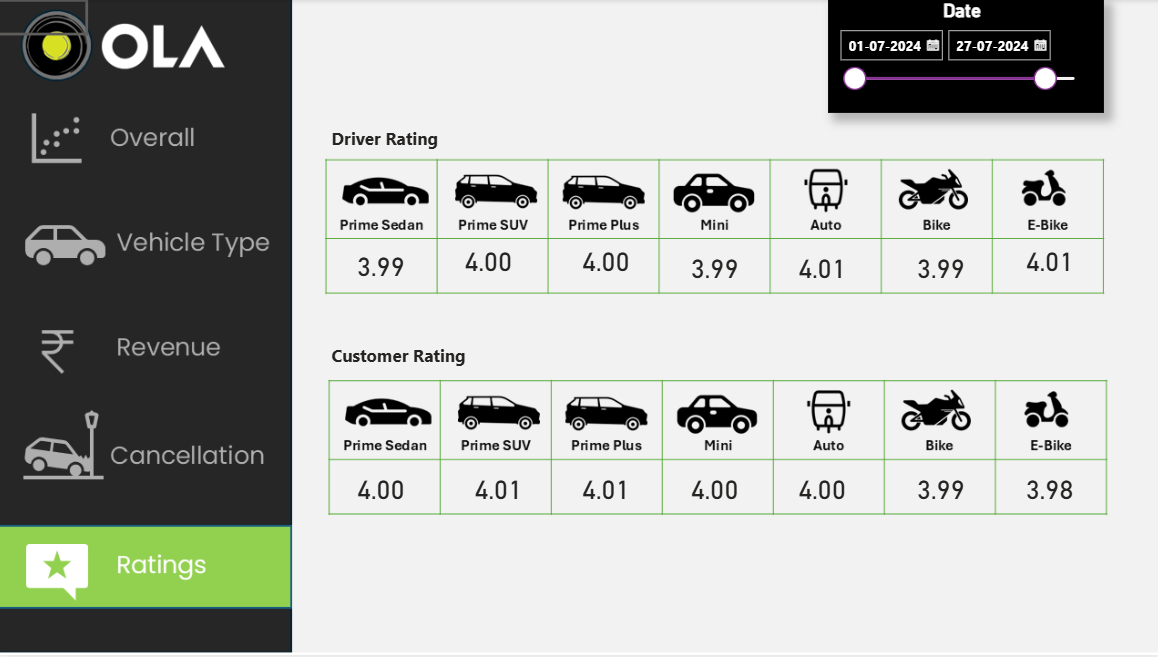

Layout of this report page (visuals, bound fields, positions):
{"tool":"powerbi","page":{"name":"Ratings","canvas":[1280,720],"ordinal":4},"visuals":[{"type":"actionButton","box":[0,0,100,40],"z":0},{"type":"actionButton","box":[0,208.6,323.5,100.8],"z":1000},{"type":"actionButton","box":[0,309.5,323.5,103.2],"z":2000},{"type":"actionButton","box":[0,573.6,323.8,102.9],"z":3000},{"type":"actionButton","box":[4.7,105.5,323.5,103.2],"z":4000},{"type":"actionButton","box":[0,94.7,323.8,104.3],"z":5000},{"type":"actionButton","box":[10,104.7,323.8,104.3],"z":6000},{"type":"actionButton","box":[0,206.3,323.5,103.2],"z":7000},{"type":"actionButton","box":[10,216.3,323.5,103.2],"z":8000},{"type":"actionButton","box":[0,220.9,323.8,91.9],"z":9000},{"type":"card","fields":{"Values":["Avg(Bookings.Driver_Ratings)"]},"box":[361.7,266.6,118.5,53],"z":9001},{"type":"card","fields":{"Values":["Avg(Bookings.Driver_Ratings)"]},"box":[480.2,260.4,118.5,53],"z":9002},{"type":"card","fields":{"Values":["Avg(Bookings.Driver_Ratings)"]},"box":[609.6,260.4,118.5,53],"z":9003},{"type":"card","fields":{"Values":["Avg(Bookings.Driver_Ratings)"]},"box":[728.1,268.2,118.5,53],"z":9004},{"type":"card","fields":{"Values":["Avg(Bookings.Driver_Ratings)"]},"box":[846.6,268.2,118.5,53],"z":9005},{"type":"card","fields":{"Values":["Avg(Bookings.Driver_Ratings)"]},"box":[977.5,268.2,118.5,53],"z":9006},{"type":"card","fields":{"Values":["Avg(Bookings.Driver_Ratings)"]},"box":[1096,260.4,118.5,53],"z":9007},{"type":"card","fields":{"Values":["Avg(Bookings.Customer_Rating)"]},"box":[361.7,509.8,118.5,53],"z":9008},{"type":"card","fields":{"Values":["Avg(Bookings.Customer_Rating)"]},"box":[491.1,509.8,118.5,53],"z":9009},{"type":"card","fields":{"Values":["Avg(Bookings.Customer_Rating)"]},"box":[609.6,509.8,118.5,53],"z":9010},{"type":"card","fields":{"Values":["Avg(Bookings.Customer_Rating)"]},"box":[728.1,509.8,118.5,53],"z":9011},{"type":"card","fields":{"Values":["Avg(Bookings.Customer_Rating)"]},"box":[846.6,509.8,118.5,53],"z":9012},{"type":"card","fields":{"Values":["Avg(Bookings.Customer_Rating)"]},"box":[977.5,509.8,118.5,53],"z":9013},{"type":"card","fields":{"Values":["Avg(Bookings.Customer_Rating)"]},"box":[1096,509.8,118.5,53],"z":9014},{"type":"textbox","box":[361.7,135.6,146.6,37.4],"z":9015},{"type":"textbox","box":[361.7,372.6,162.1,39],"z":9016},{"type":"slicer","title":"Date","fields":{"Values":["Bookings.Date"]},"box":[912.1,0,302.5,124.7],"z":9017}]}

Visuals, with their boxes on the page's 1280x720 design canvas (x1, y1, x2, y2). These are canvas units, not pixel positions in the 1158x657 screenshot, which may show the page scaled, cropped or inside an application window:
actionButton: bbox(0, 0, 100, 40)
actionButton: bbox(0, 209, 324, 309)
actionButton: bbox(0, 310, 324, 413)
actionButton: bbox(0, 574, 324, 676)
actionButton: bbox(5, 106, 328, 209)
actionButton: bbox(0, 95, 324, 199)
actionButton: bbox(10, 105, 334, 209)
actionButton: bbox(0, 206, 324, 310)
actionButton: bbox(10, 216, 334, 320)
actionButton: bbox(0, 221, 324, 313)
card - Avg(Bookings.Driver_Ratings): bbox(362, 267, 480, 320)
card - Avg(Bookings.Driver_Ratings): bbox(480, 260, 599, 313)
card - Avg(Bookings.Driver_Ratings): bbox(610, 260, 728, 313)
card - Avg(Bookings.Driver_Ratings): bbox(728, 268, 847, 321)
card - Avg(Bookings.Driver_Ratings): bbox(847, 268, 965, 321)
card - Avg(Bookings.Driver_Ratings): bbox(978, 268, 1096, 321)
card - Avg(Bookings.Driver_Ratings): bbox(1096, 260, 1214, 313)
card - Avg(Bookings.Customer_Rating): bbox(362, 510, 480, 563)
card - Avg(Bookings.Customer_Rating): bbox(491, 510, 610, 563)
card - Avg(Bookings.Customer_Rating): bbox(610, 510, 728, 563)
card - Avg(Bookings.Customer_Rating): bbox(728, 510, 847, 563)
card - Avg(Bookings.Customer_Rating): bbox(847, 510, 965, 563)
card - Avg(Bookings.Customer_Rating): bbox(978, 510, 1096, 563)
card - Avg(Bookings.Customer_Rating): bbox(1096, 510, 1214, 563)
textbox: bbox(362, 136, 508, 173)
textbox: bbox(362, 373, 524, 412)
"Date" slicer: bbox(912, 0, 1215, 125)
